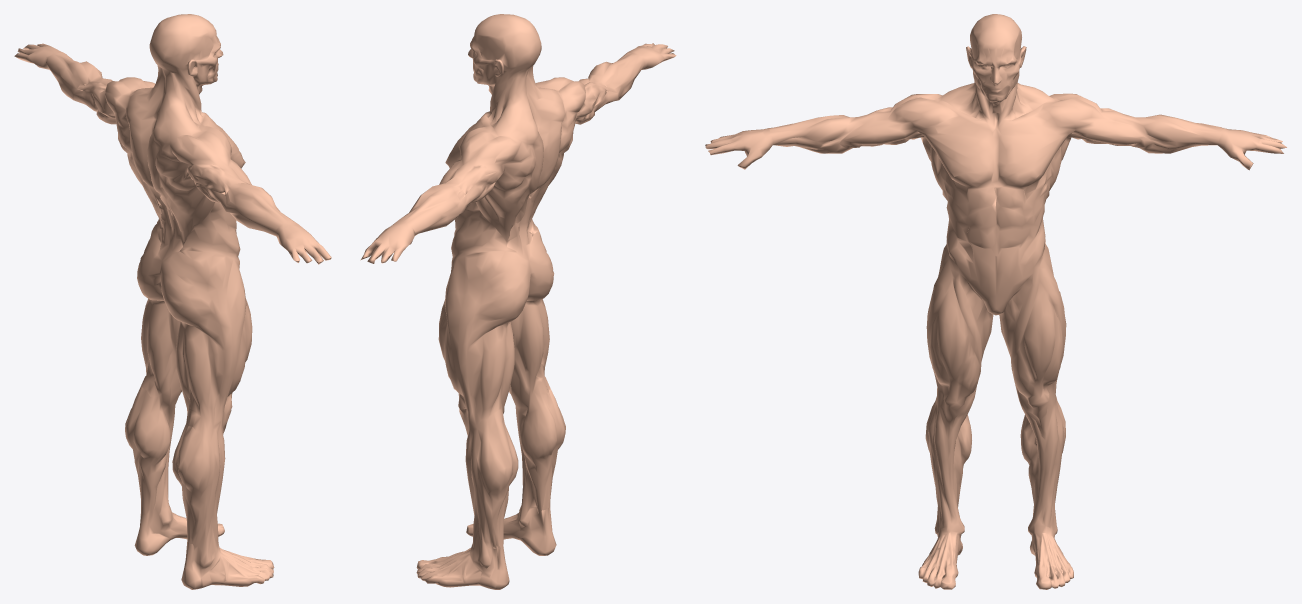
File: human-anatomy.glb
The picture shows the model from 3 angles, left to right: view 1: azimuth 30°, elevation 25°; view 2: azimuth 150°, elevation 25°; view 3: azimuth 270°, elevation 25°; orthographic projection.
Visible parts, largest first — view 1: Body, Hamstrings_R, Calves_L, Calves_R, Glutes_R, Traps_R, Hamstrings_L, Traps_L, Deltoid_R, Forearms_R, Glutes_L, Forearms_L (+8 smaller); view 2: Body, Hamstrings_L, Calves_R, Calves_L, Glutes_L, Traps_R, Hamstrings_R, Traps_L, Deltoid_L, Forearms_L, Glutes_R, Forearms_R (+7 smaller); view 3: Body, Quadriceps_R, Quadriceps_L, Pectoral_L, Pectoral_R, Abs_R, Abs_L, Forearms_L, Deltoid_R, Deltoid_L, Forearms_R, Biceps_R (+3 smaller).
Boxes of the visible parts, x1,y1,x2,y2 form: Body: [14, 14, 331, 589]; Hamstrings_R: [176, 313, 232, 426]; Calves_L: [125, 385, 170, 514]; Calves_R: [172, 422, 213, 546]; Glutes_R: [159, 251, 210, 327]; Traps_R: [147, 69, 195, 194]; Hamstrings_L: [141, 298, 172, 393]; Traps_L: [126, 65, 161, 189]; Deltoid_R: [171, 126, 231, 165]; Forearms_R: [226, 183, 293, 228]; Glutes_L: [137, 224, 163, 300]; Forearms_L: [46, 53, 102, 88]; Body: [360, 14, 676, 589]; Hamstrings_L: [464, 319, 514, 425]; Calves_R: [520, 389, 565, 511]; Calves_L: [477, 421, 518, 549]; Glutes_L: [474, 251, 530, 326]; Traps_R: [527, 65, 564, 189]; Hamstrings_R: [517, 299, 549, 389]; Traps_L: [498, 70, 543, 194]; Deltoid_L: [459, 126, 519, 173]; Forearms_L: [398, 183, 460, 234]; Glutes_R: [527, 230, 554, 300]; Forearms_R: [588, 53, 642, 92]; Body: [705, 14, 1286, 589]; Quadriceps_R: [929, 277, 980, 410]; Quadriceps_L: [1011, 281, 1061, 408]; Pectoral_L: [999, 132, 1068, 187]; Pectoral_R: [925, 134, 993, 187]; Abs_R: [966, 186, 997, 296]; Abs_L: [995, 187, 1025, 296]; Forearms_L: [1135, 114, 1223, 144]; Deltoid_R: [887, 94, 952, 129]; Deltoid_L: [1039, 93, 1104, 129]; Forearms_R: [768, 115, 856, 141]; Biceps_R: [842, 119, 916, 144].
Size of the model in its own units: 1.33 by 6.51 by 6.31.
